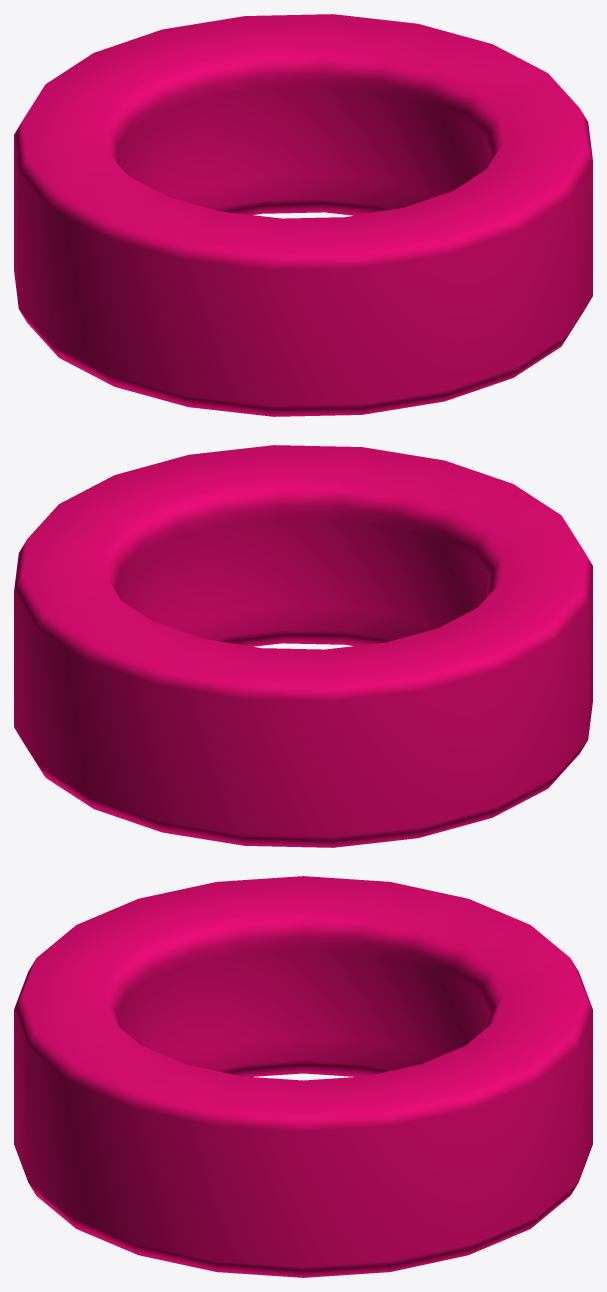
The model's file is Tire_01_Lod0.fbx.
3 views of the same model, one above another, from view 1: azimuth 30°, elevation 25°; view 2: azimuth 150°, elevation 25°; view 3: azimuth 270°, elevation 25° (orthographic).
Visible parts, largest first — view 1: Tire_01_Lod0; view 2: Tire_01_Lod0; view 3: Tire_01_Lod0.
Boxes of the visible parts, <box> form: Tire_01_Lod0: <box>14,14,592,416</box>; Tire_01_Lod0: <box>14,445,592,847</box>; Tire_01_Lod0: <box>14,876,592,1277</box>.
Bounding box in the file's own units: 77.42 × 24.26 × 77.42.
